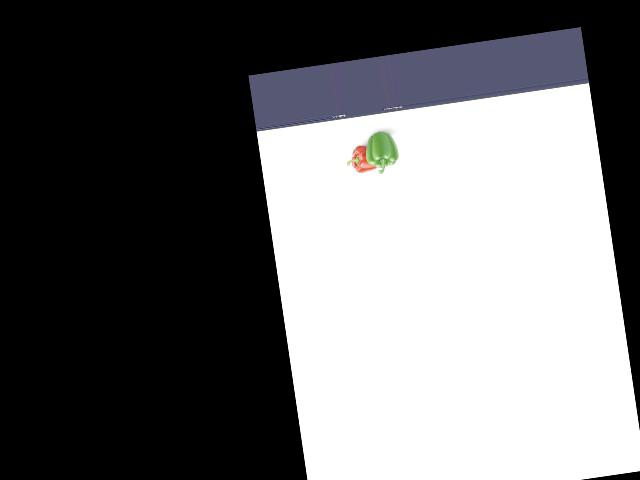bell_pepper: (345, 144, 378, 178)
